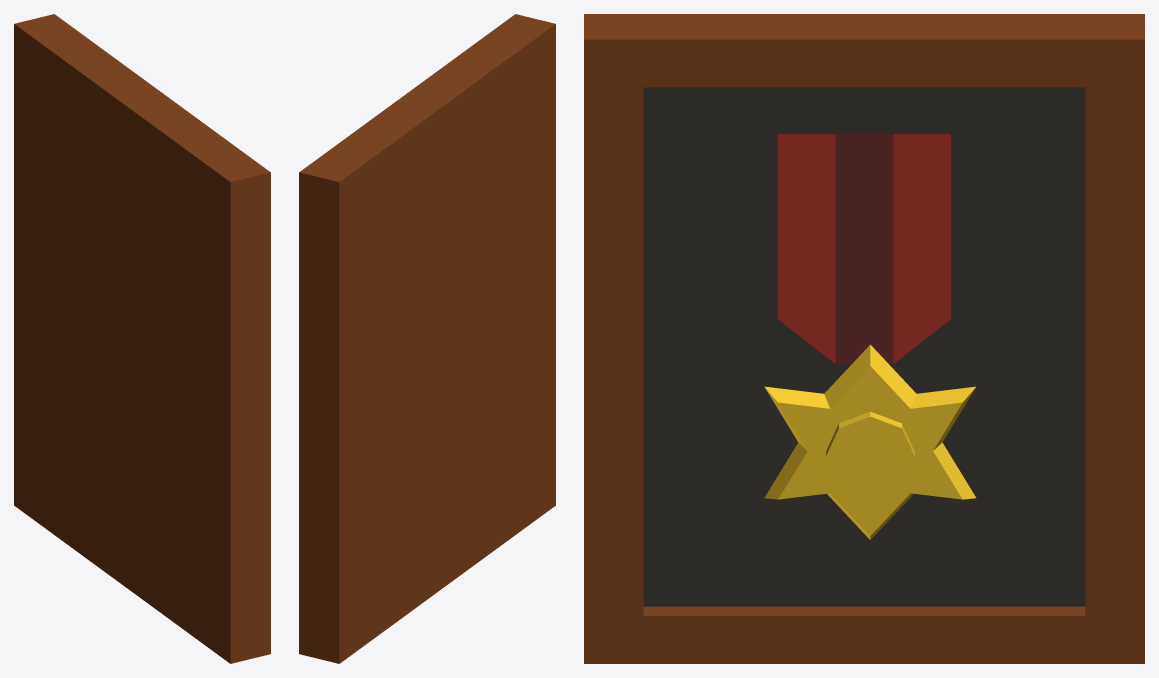
Rendered from SM_Frame_03.glb.
The picture shows the model from 3 angles, left to right: view 1: azimuth 30°, elevation 25°; view 2: azimuth 150°, elevation 25°; view 3: azimuth 270°, elevation 25°; orthographic projection. The views are drawn at different scales.
Visible parts, largest first — view 1: SM_Frame_03; view 2: SM_Frame_03; view 3: SM_Frame_03.
Part boxes in pixels (<box>): SM_Frame_03: <box>14,14,270,663</box>; SM_Frame_03: <box>299,14,555,663</box>; SM_Frame_03: <box>584,14,1144,663</box>.
Size of the model in its own units: 0.0435 by 0.3543 by 0.2884.
Materials: 1 (1 with a texture image).
